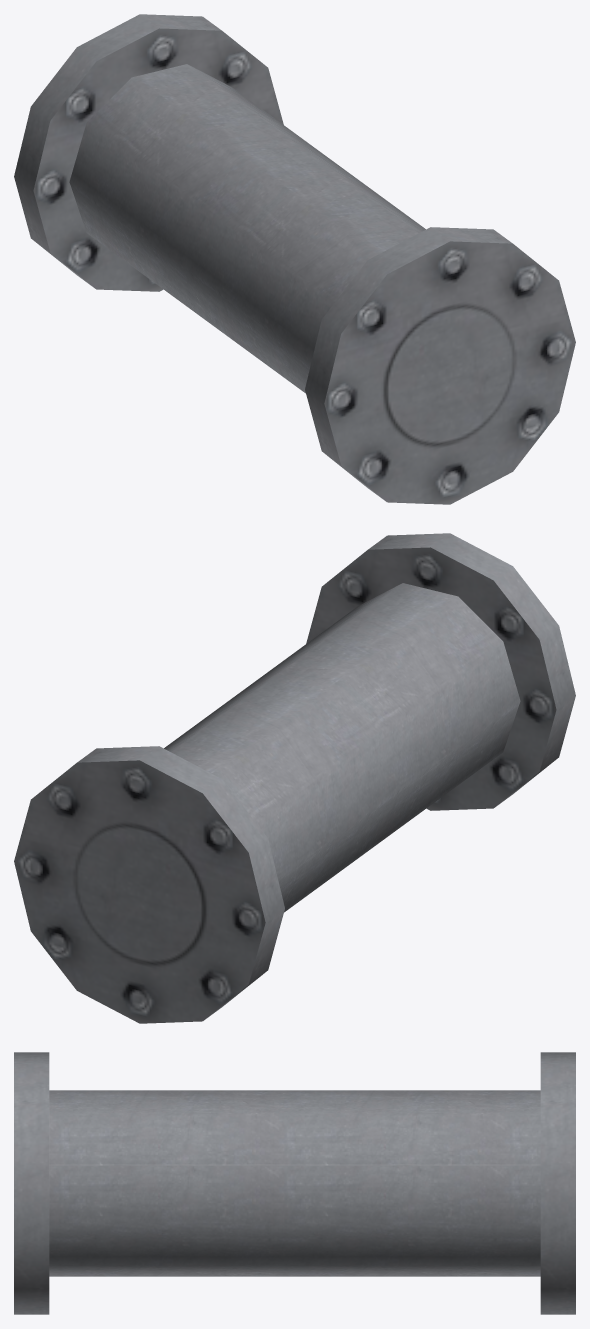
The model's file is p_small_2_cap.FBX.
3 views of the same model, one above another, from view 1: azimuth 30°, elevation 25°; view 2: azimuth 150°, elevation 25°; view 3: azimuth 270°, elevation 25° (orthographic). The views are drawn at different scales.
Parts seen in each view (by area): view 1: Cylinder004; view 2: Cylinder004; view 3: Cylinder004.
Part boxes in pixels (x1,y1,x2,y2): Cylinder004: [14, 14, 575, 504]; Cylinder004: [14, 533, 575, 1023]; Cylinder004: [14, 1052, 575, 1314].
Bounding box in the file's own units: 29.97 × 29.97 × 64.01.
Materials: 1 (1 with a texture image).
